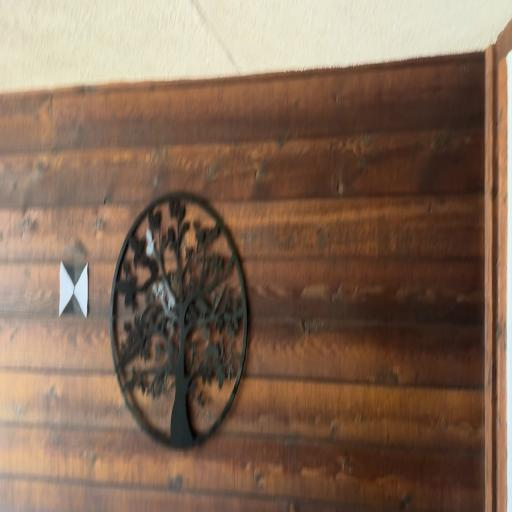target: (60, 260, 88, 316)
